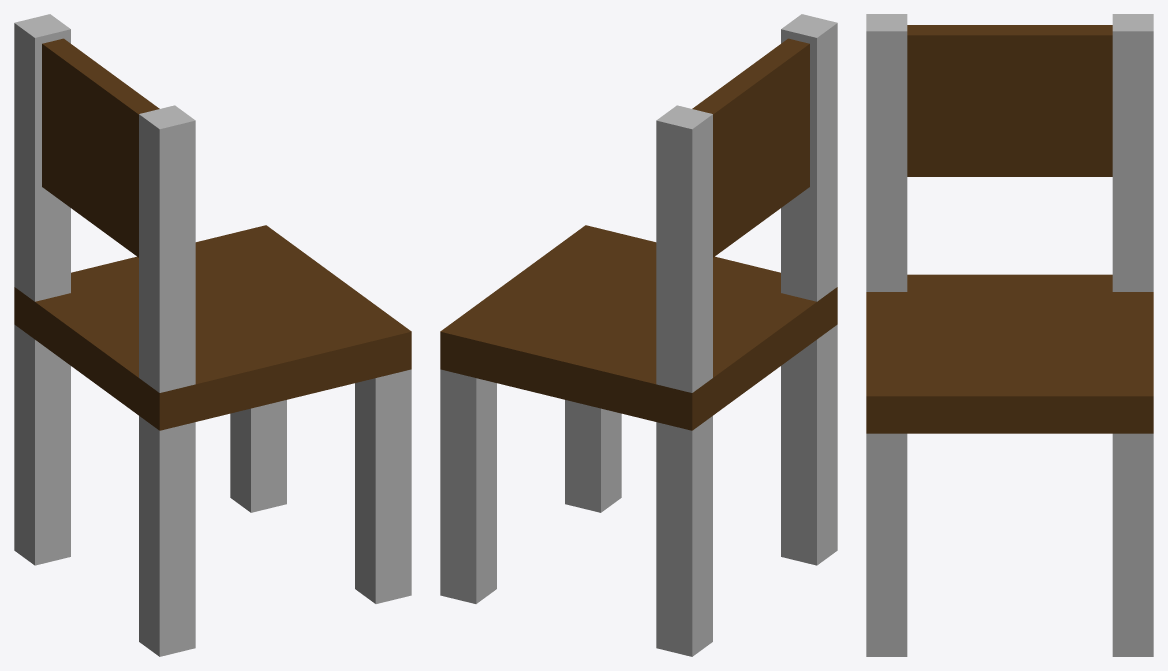
File: chair.fbx
3 renders of one model, left to right at view 1: azimuth 30°, elevation 25°; view 2: azimuth 150°, elevation 25°; view 3: azimuth 270°, elevation 25°, orthographic.
Visible parts, largest first — view 1: Cube.004; view 2: Cube.004; view 3: Cube.004.
Boxes of the visible parts, x1,y1,x2,y2 form: Cube.004: (14, 14, 411, 656); Cube.004: (440, 14, 837, 656); Cube.004: (866, 14, 1153, 656).
Bounding box in the file's own units: 70 × 140 × 70.
